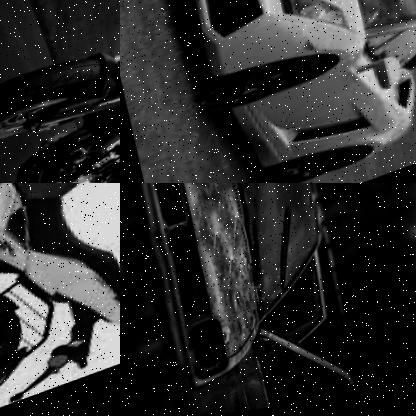bike: (0, 183, 120, 416)
car: (120, 183, 370, 416), (141, 0, 416, 183)
